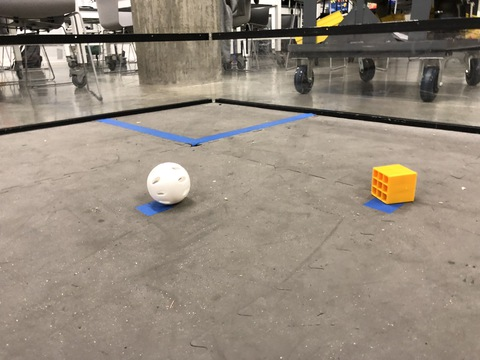ball: (132, 160, 209, 216)
block: (366, 161, 428, 210)
